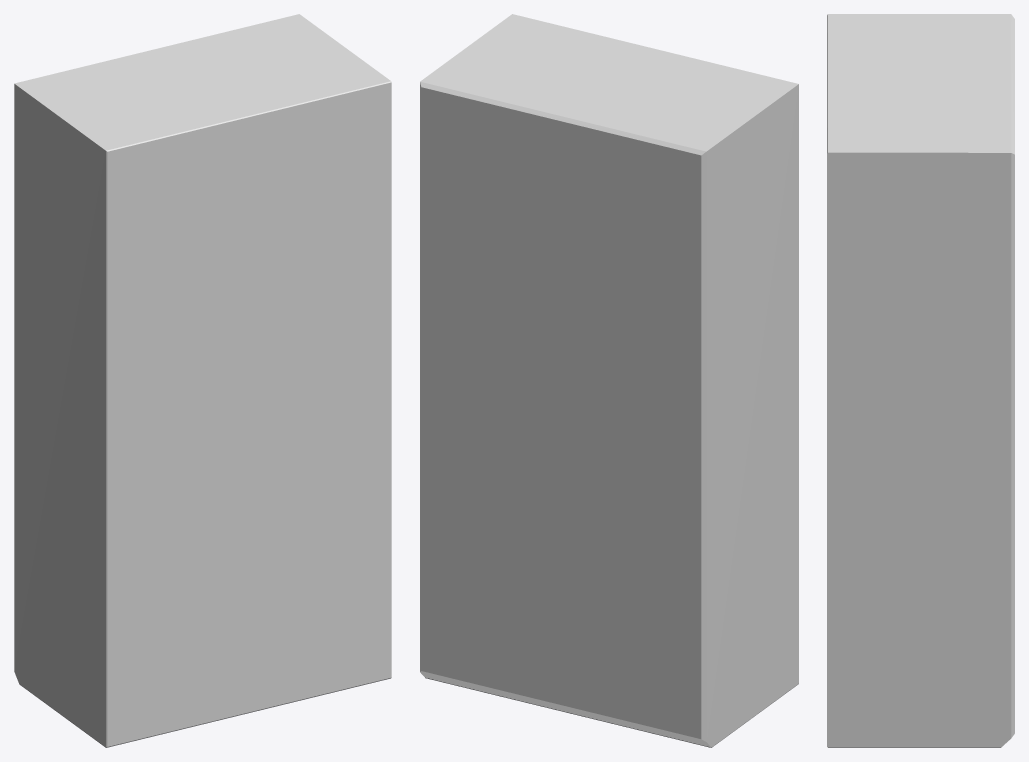
The model's file is SM_Bld_Crew_Desk_01.fbx.
3 views of the same model, side by side, from view 1: azimuth 30°, elevation 25°; view 2: azimuth 150°, elevation 25°; view 3: azimuth 270°, elevation 25° (orthographic).
Parts seen in each view (by area): view 1: SM_Bld_Crew_Desk_01_ConvexHulls; view 2: SM_Bld_Crew_Desk_01_ConvexHulls; view 3: SM_Bld_Crew_Desk_01_ConvexHulls.
Boxes of the visible parts, x1,y1,x2,y2 form: SM_Bld_Crew_Desk_01_ConvexHulls: (14,14,391,747); SM_Bld_Crew_Desk_01_ConvexHulls: (420,14,798,747); SM_Bld_Crew_Desk_01_ConvexHulls: (827,14,1014,747).
Size of the model in its own units: 143 by 250 by 501.
1 material, 1 textured.
